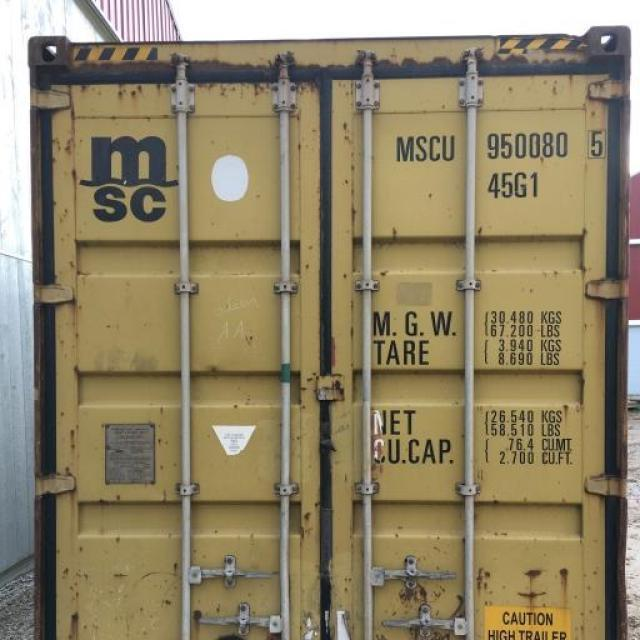ISO: (488, 171, 542, 198)
container_number: (397, 132, 592, 162)
